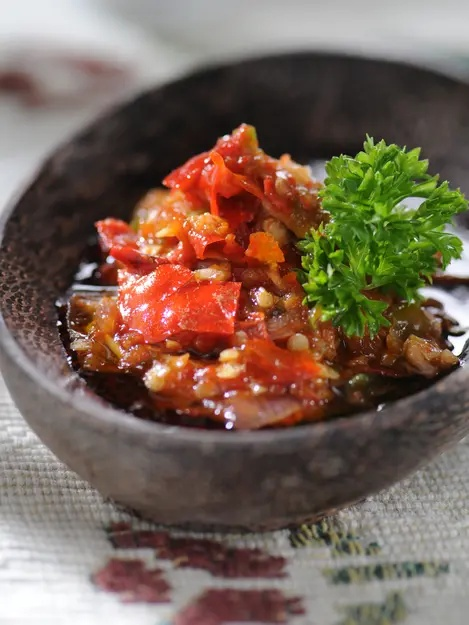sambal: (64, 121, 432, 424)
